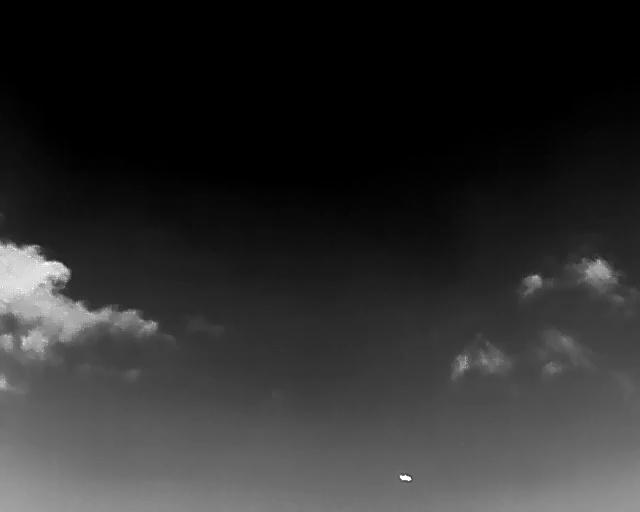fpv-drone: (398, 473, 413, 483)
